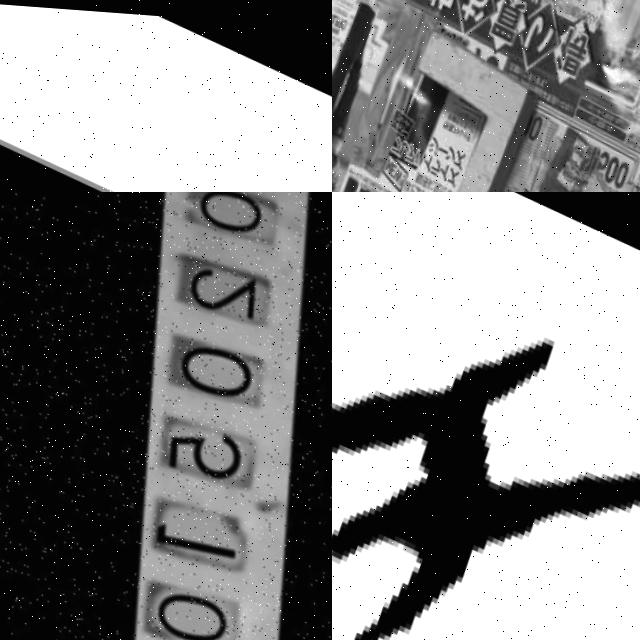0: (146, 305, 277, 423), (119, 552, 247, 640), (167, 192, 286, 253)
1: (125, 468, 253, 583)
2: (159, 229, 278, 336)
5: (136, 388, 261, 502)
L: (364, 24, 543, 192)
Q: (0, 78, 332, 192)
